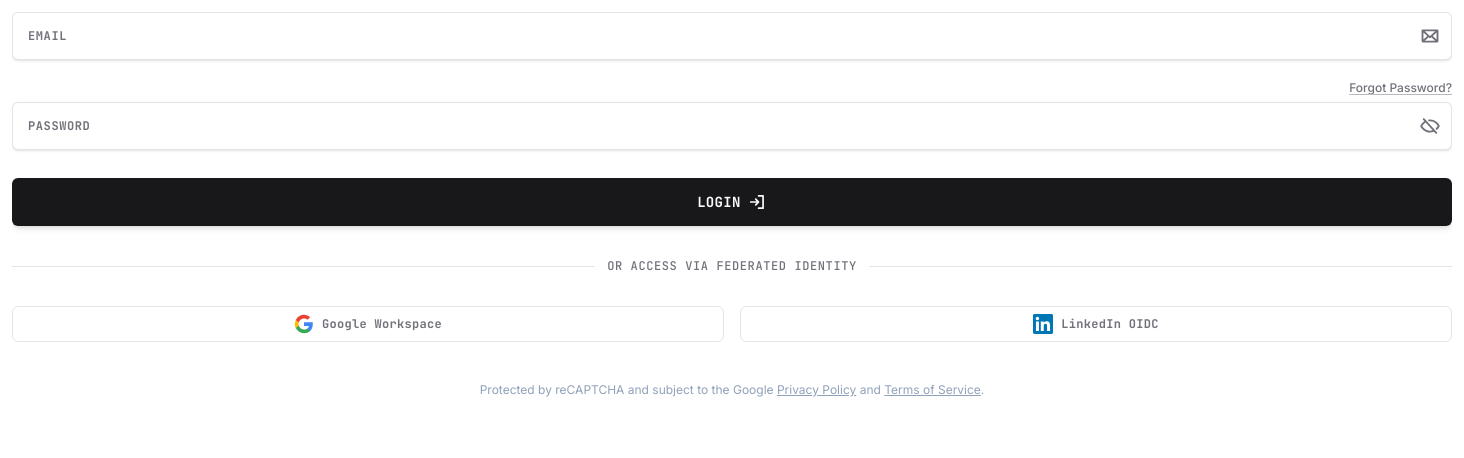
Scenario: LoginForm › validation › shows required errors when submitting empty fields
Click the button "Login". click: (732, 202)
box: [12,178,1452,226]
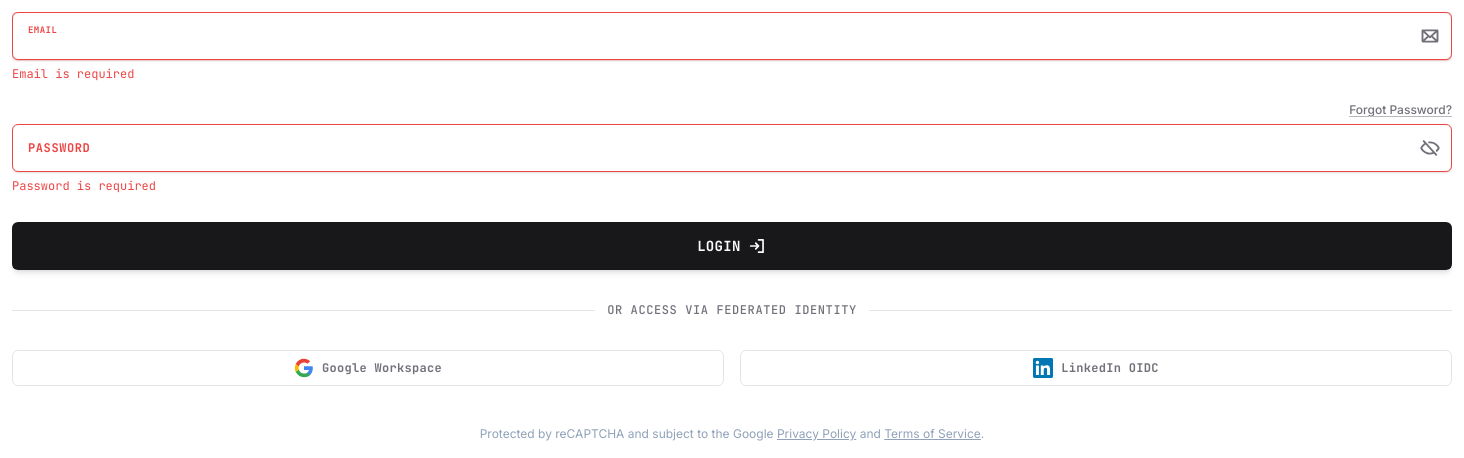
expect the text "Email is required" is shown: met, box [12,66,134,82]
expect the text "Password is required" is shown: met, box [12,178,156,194]
